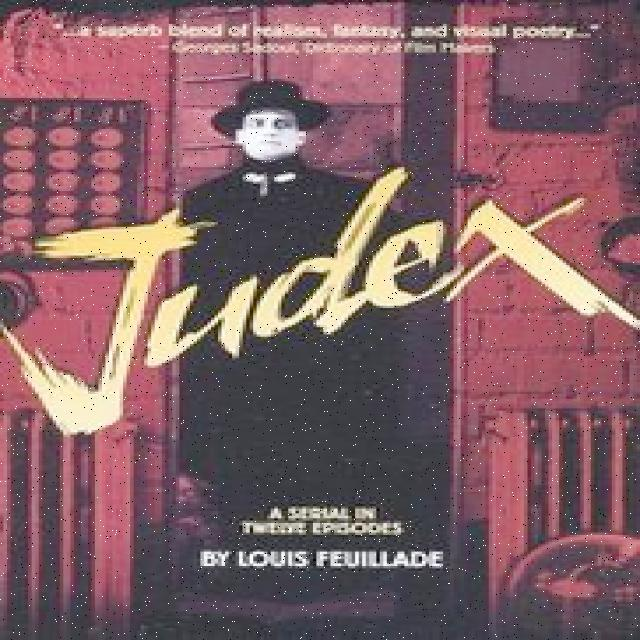movie-judul: (8, 166, 640, 442)
picture: (167, 80, 454, 507)
